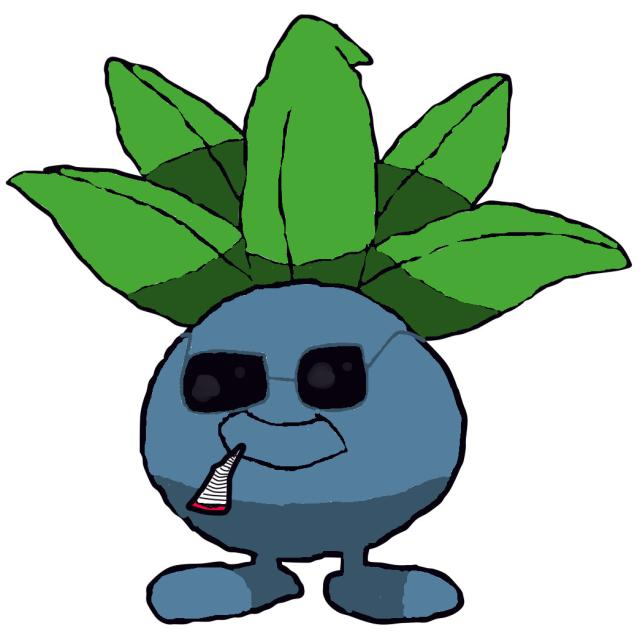Oddish: (105, 31, 495, 632)
